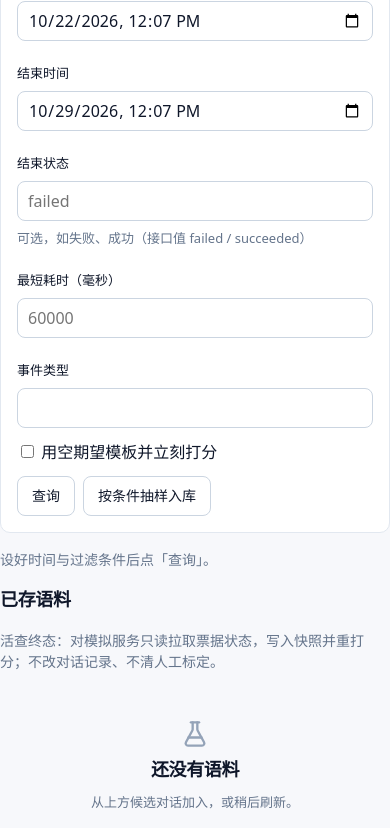
Scenario: EvalSettings › opens run events from candidate row
(page scrolled)
Click the button with test id "eval-query".
click(46, 496)  # box x1=17 y1=476 x2=75 y2=516
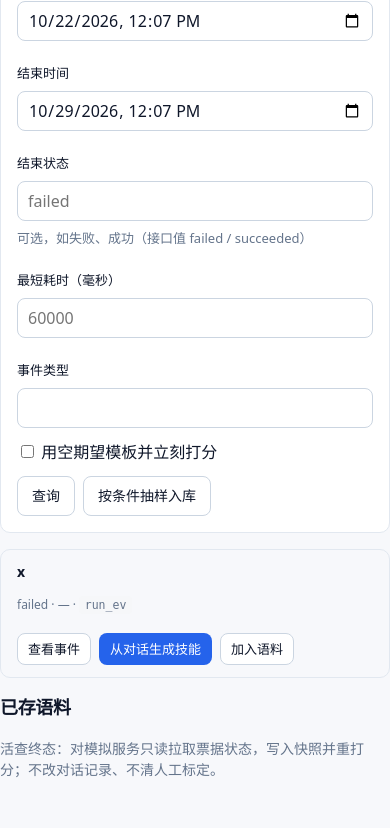
Click the button with test id "eval-view-events-run_ev".
click(54, 649)  # box x1=17 y1=633 x2=91 y2=665
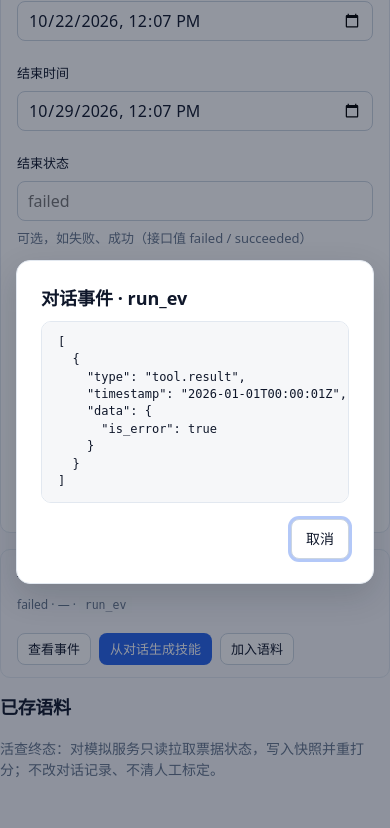
Expected: the text "tool.result" is shown, x1=58 y1=335 x2=347 y2=488
